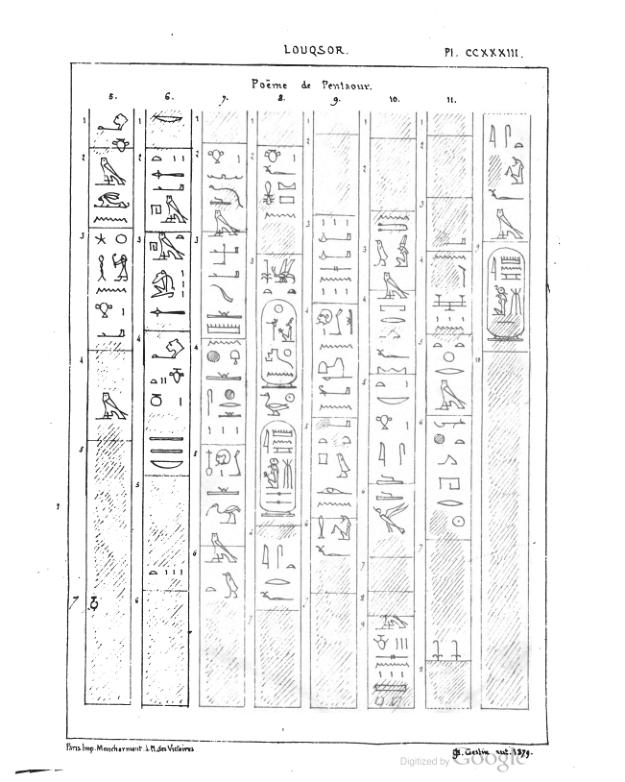circle: (257, 419, 301, 521), (485, 246, 527, 346), (260, 297, 301, 391)
